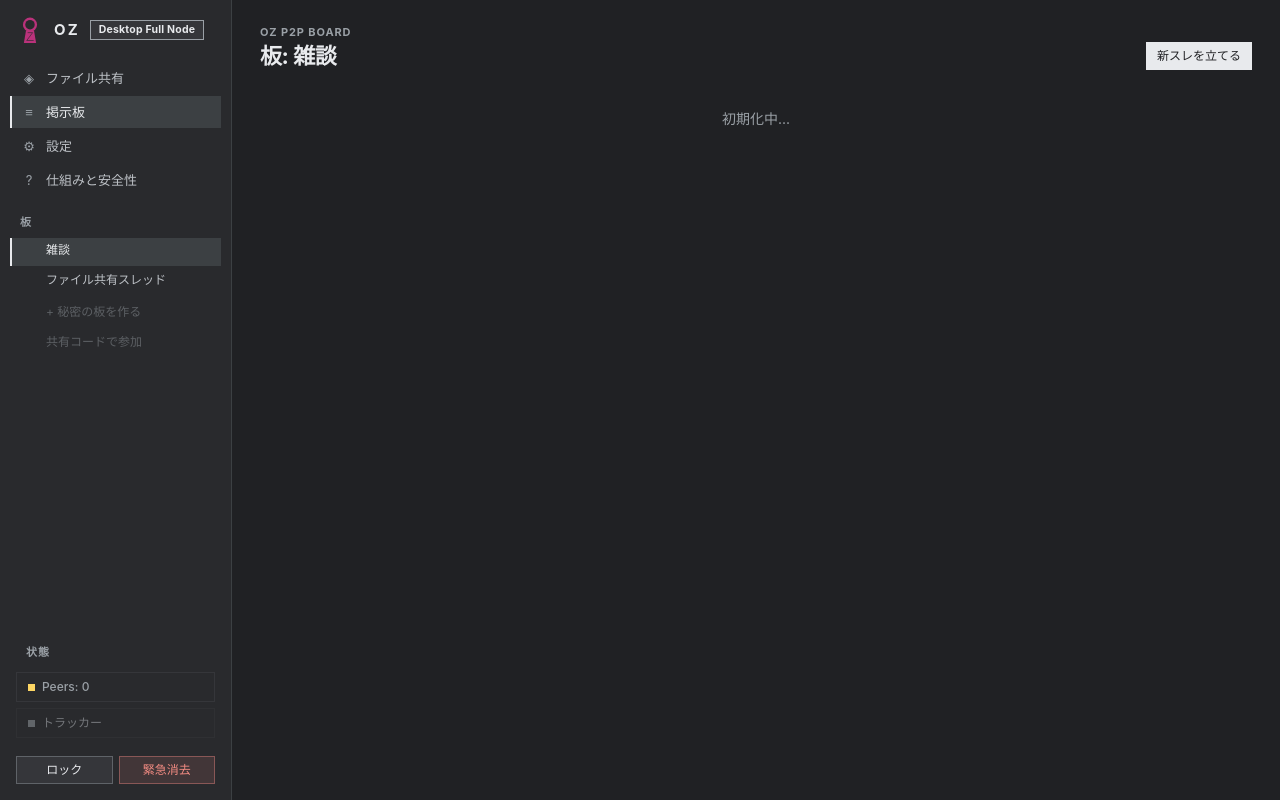
it: Desktop UI Rendering & Workflows (OZ Specification) › サイドバー › サイドバーから設定と説明の画面に切り替わる (設定は 1 つの画面にまとまっている)
Click the button "⚙︎ 設定" at {"x": 116, "y": 146}, box [10,130,221,162]
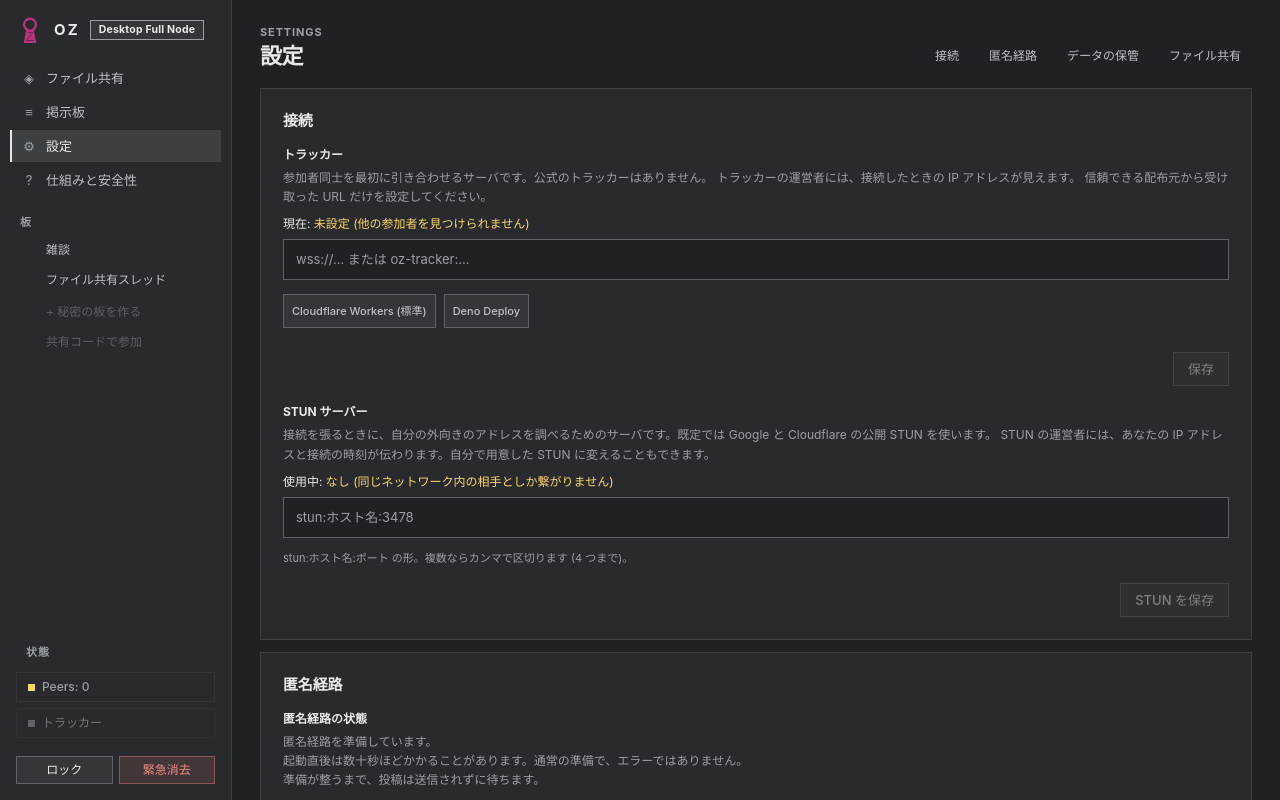
expect the heading "接続" is shown: met, box [283,111,313,130]
expect the heading "匿名経路" is shown: met, box [283,675,342,694]
Click the button "? 仕組みと安全性" at {"x": 116, "y": 180}, box [10,164,221,196]
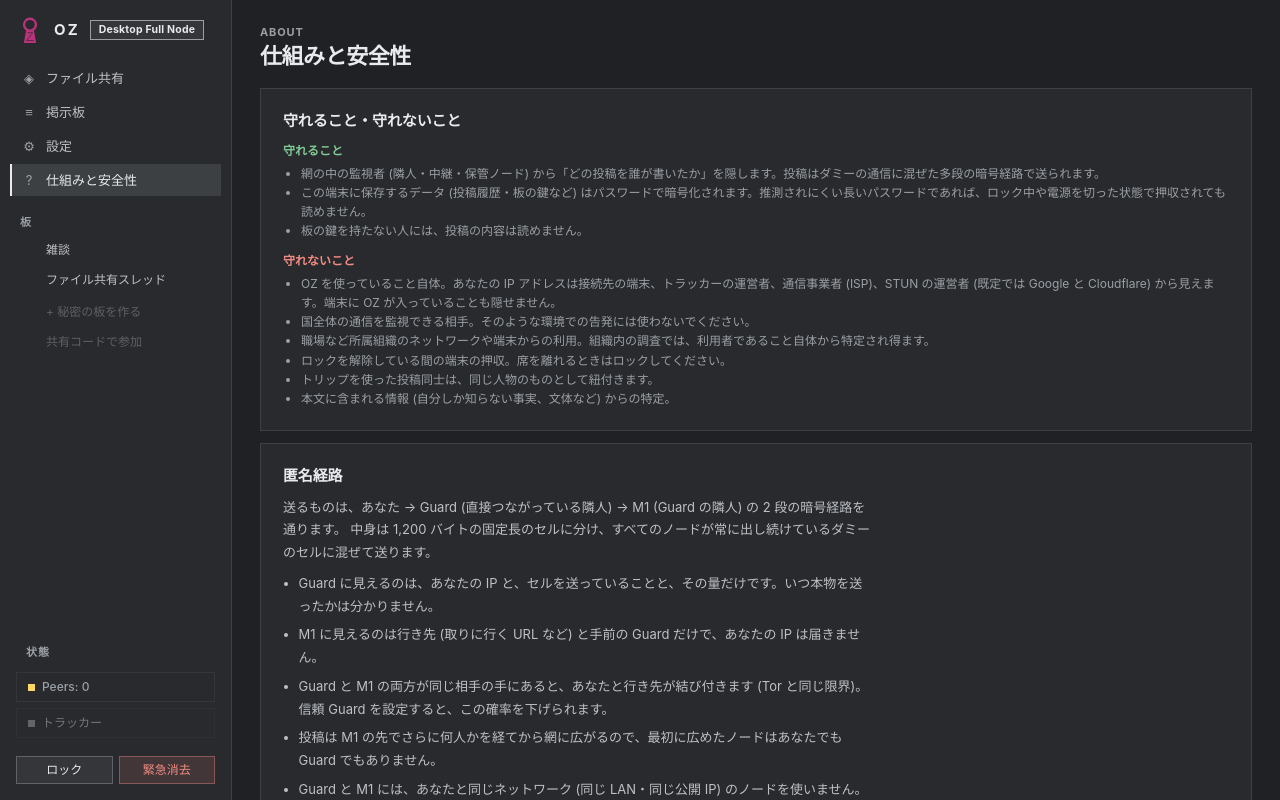
expect the heading "仕組みと安全性" is shown: met, box [260,42,411,70]
expect the text "守れないこと" is shown: met, box [283,253,355,268]
